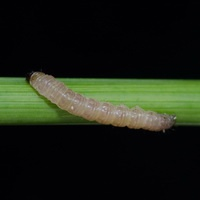insect: (29, 72, 175, 130)
